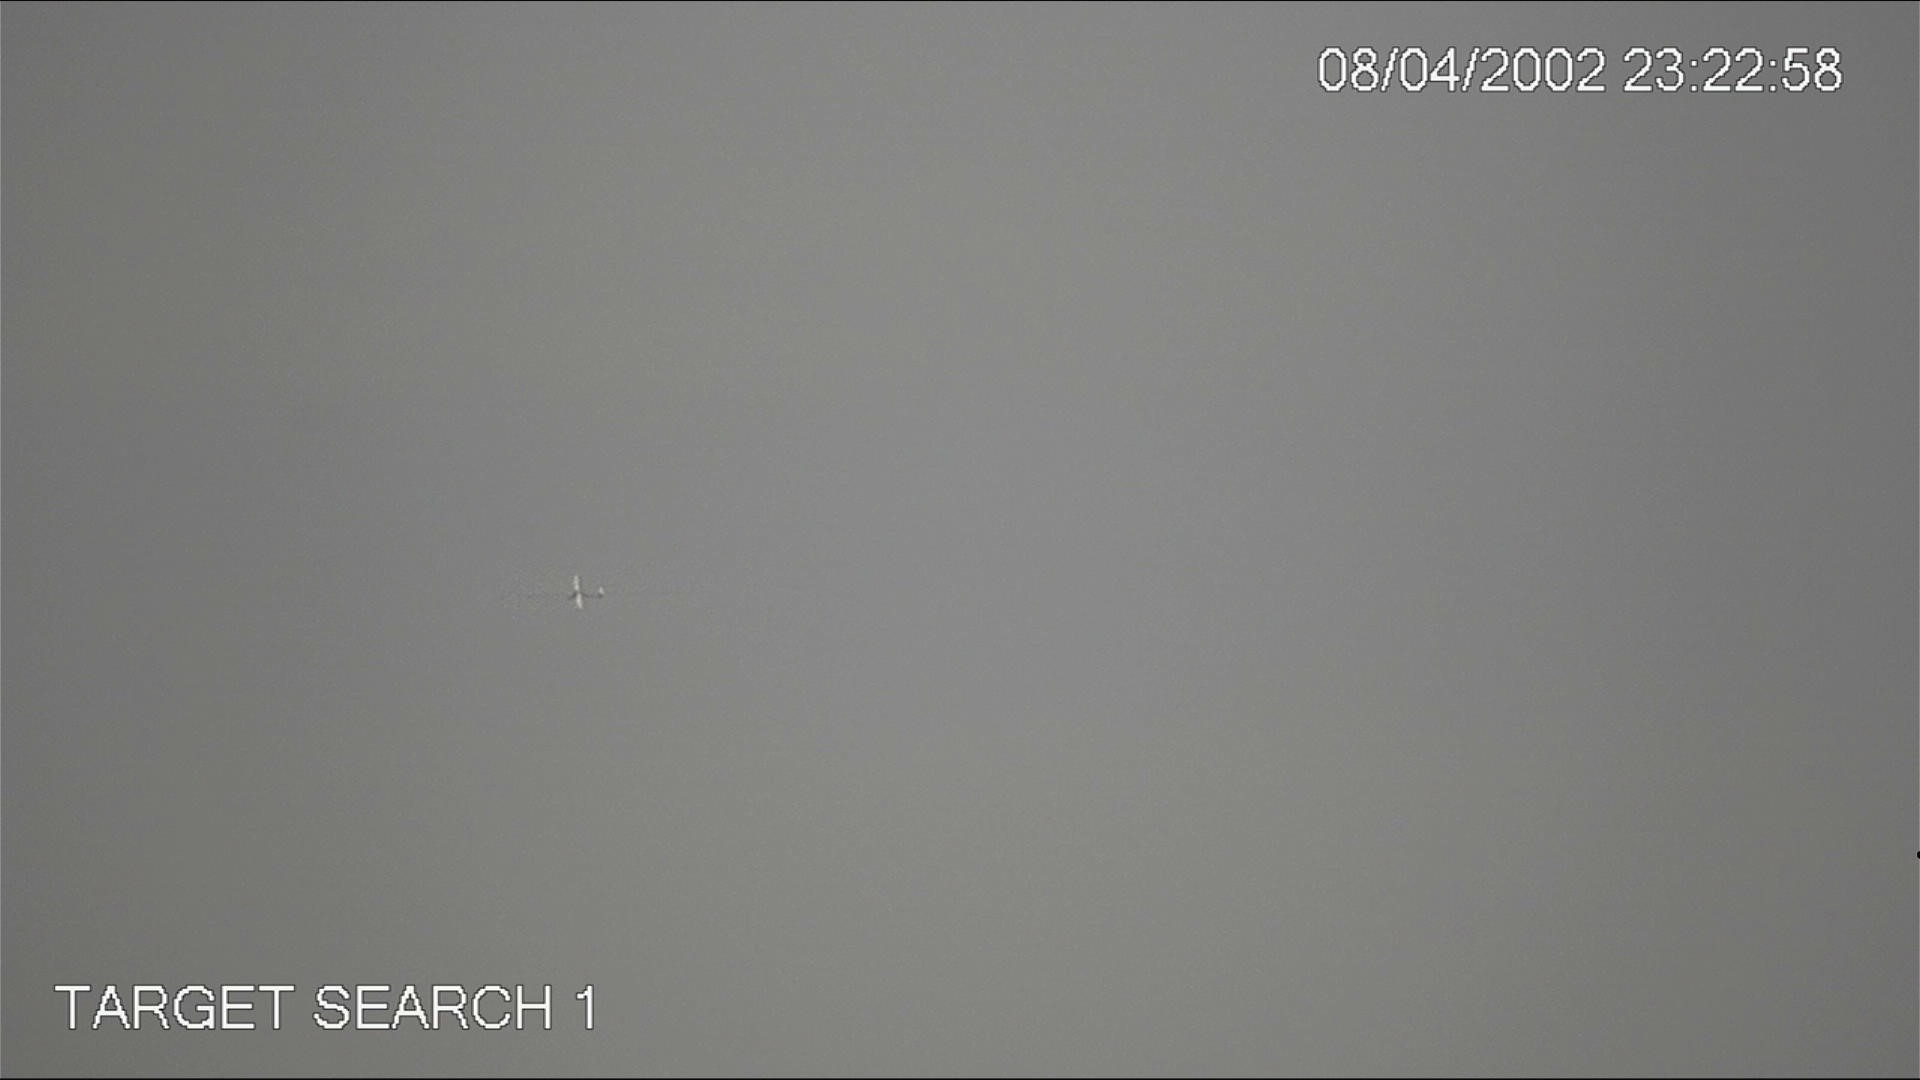SU_30: (564, 566, 611, 616)
